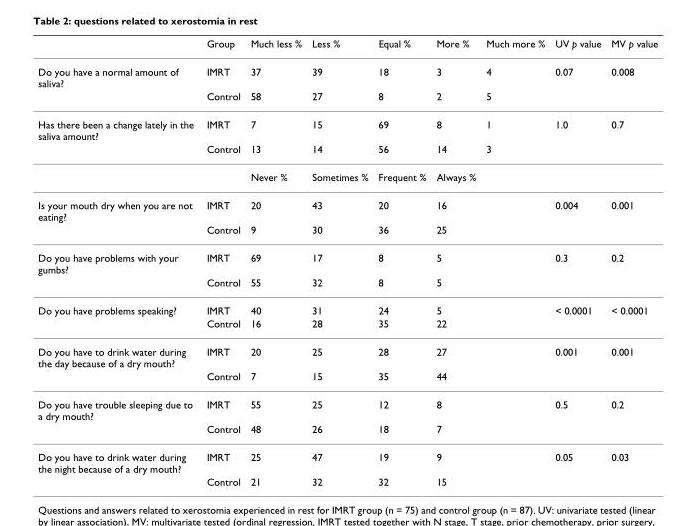table: (37, 37, 657, 487)
table column: (37, 37, 199, 487), (480, 37, 549, 487), (306, 37, 372, 487), (244, 37, 306, 487), (372, 37, 430, 487), (549, 37, 605, 487), (605, 37, 657, 487), (430, 37, 480, 487), (199, 37, 244, 487)
table column header: (37, 37, 657, 57)
table row: (37, 57, 657, 89), (37, 109, 657, 141), (37, 190, 657, 222), (37, 243, 657, 275), (37, 337, 657, 369), (37, 389, 657, 421), (37, 442, 657, 474), (37, 162, 657, 190), (37, 141, 657, 162), (37, 222, 657, 243), (37, 275, 657, 296), (37, 316, 657, 337), (37, 421, 657, 442), (37, 37, 657, 57), (37, 89, 657, 109), (37, 296, 657, 316), (37, 369, 657, 389), (37, 474, 657, 487)
table spanning cell: (37, 109, 199, 190), (37, 190, 199, 243), (37, 243, 199, 296), (37, 389, 199, 442), (37, 57, 199, 109), (37, 337, 199, 389), (37, 442, 199, 487), (37, 296, 199, 337)
